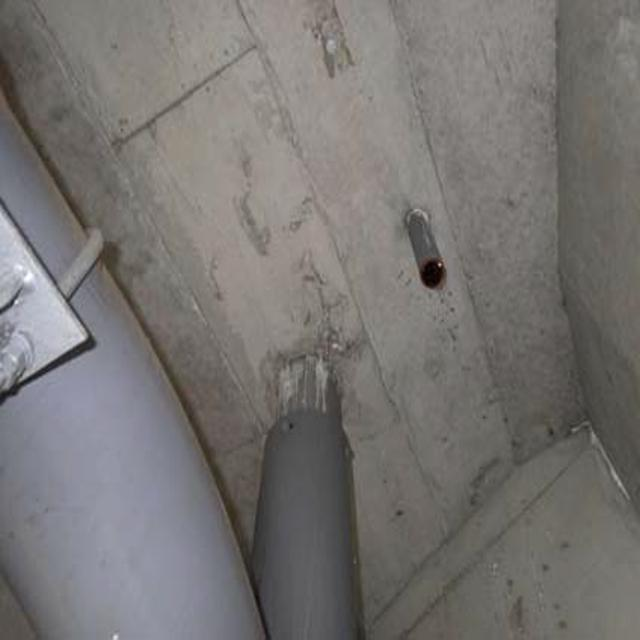corrosion: (392, 232, 474, 298)
